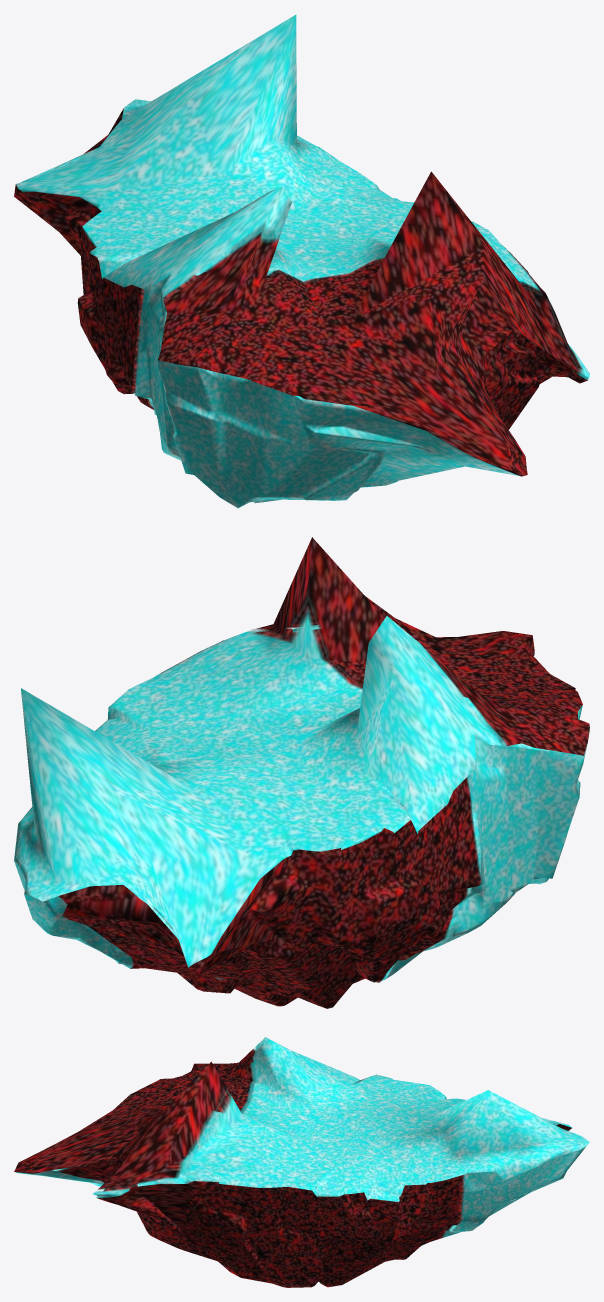
3 views of the same model, one above another, from view 1: azimuth 30°, elevation 25°; view 2: azimuth 150°, elevation 25°; view 3: azimuth 270°, elevation 25° (orthographic). The views are drawn at different scales.
Parts seen in each view (by area): view 1: SM_VFX_Kothaar_Shield_V3_LOD0; view 2: SM_VFX_Kothaar_Shield_V3_LOD0; view 3: SM_VFX_Kothaar_Shield_V3_LOD0.
Boxes of the visible parts, box(x1,y1,x2,y2) form: SM_VFX_Kothaar_Shield_V3_LOD0: box(14, 14, 589, 508); SM_VFX_Kothaar_Shield_V3_LOD0: box(14, 537, 589, 1008); SM_VFX_Kothaar_Shield_V3_LOD0: box(14, 1037, 589, 1287).
Bounding box in the file's own units: 37.63 × 33.08 × 72.7.
1 material, 1 textured.
